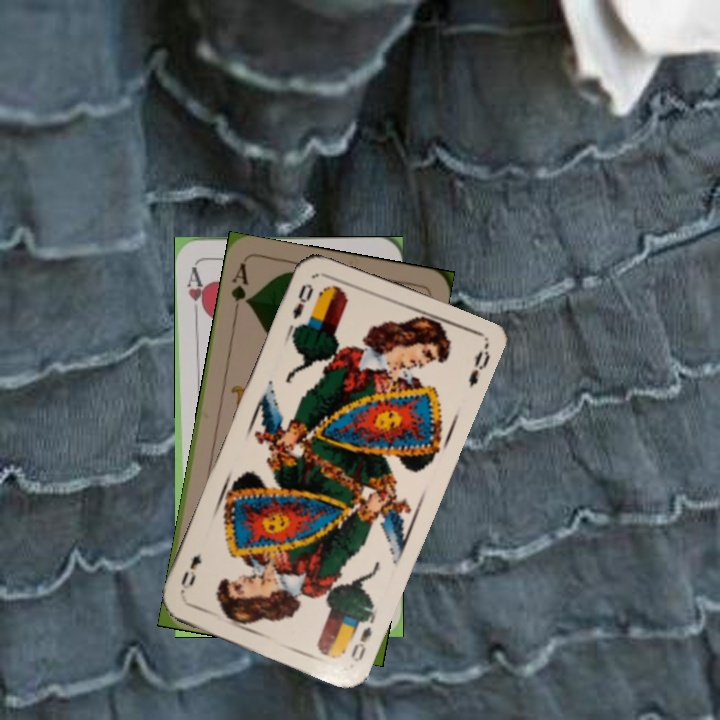EO: (346, 610, 378, 665), (288, 279, 316, 322)
GA: (227, 259, 252, 318)
HA: (182, 263, 208, 321)
